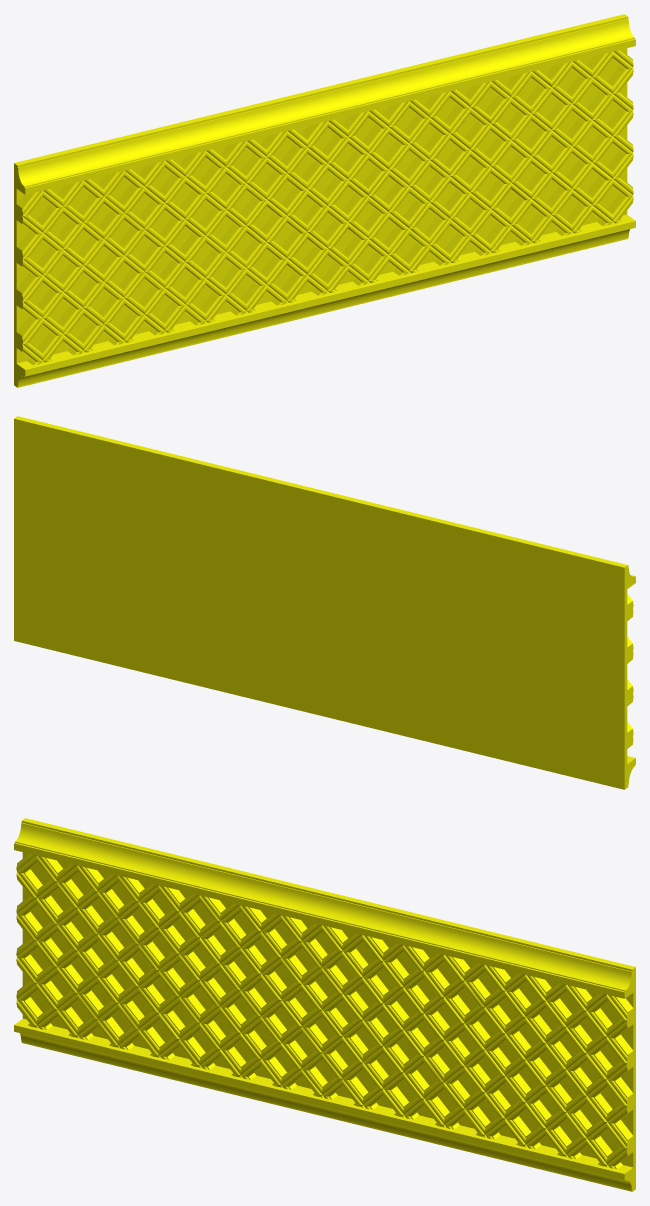
3 renders of one model, top to bottom at view 1: azimuth 30°, elevation 25°; view 2: azimuth 150°, elevation 25°; view 3: azimuth 330°, elevation 25°, orthographic.
Parts seen in each view (by area): view 1: www.dikart.ru_ДФ-144_236х22mm; view 2: www.dikart.ru_ДФ-144_236х22mm; view 3: www.dikart.ru_ДФ-144_236х22mm.
Boxes of the visible parts, x1,y1,x2,y2 form: www.dikart.ru_ДФ-144_236х22mm: [14, 14, 635, 387]; www.dikart.ru_ДФ-144_236х22mm: [14, 416, 635, 789]; www.dikart.ru_ДФ-144_236х22mm: [14, 818, 635, 1191].
Bounding box in the file's own units: 0.6788 × 0.236 × 0.022.
